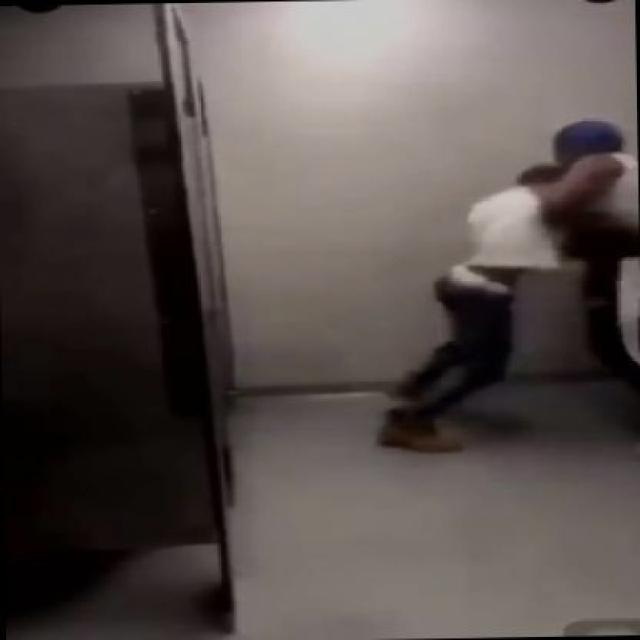fight: (378, 82, 638, 484)
